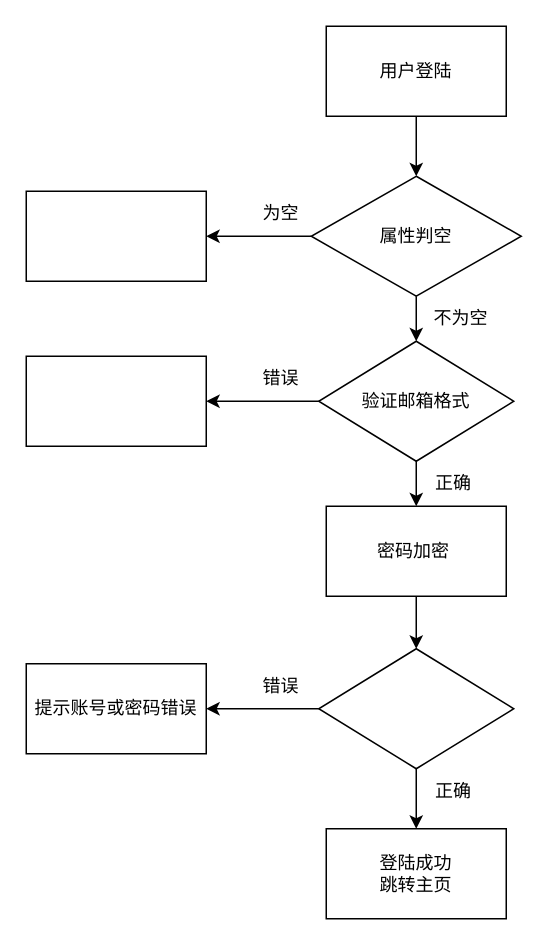
This 548x945 diagram has some shape labels left out. Here are the shapes that lost their labels. From the top down, the centre of each, then its label:
(115,235): 提示不能为空
(115,400): 提示邮箱格式错误
(415,708): 验证账号和密码
